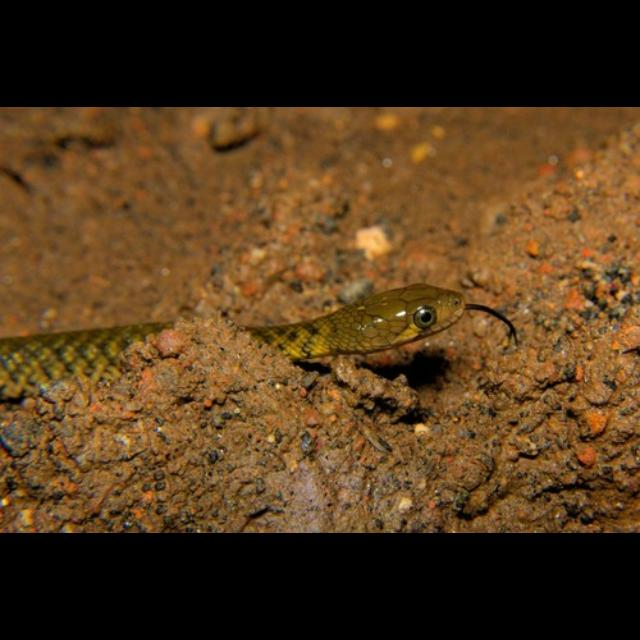snake: (1, 280, 519, 392)
